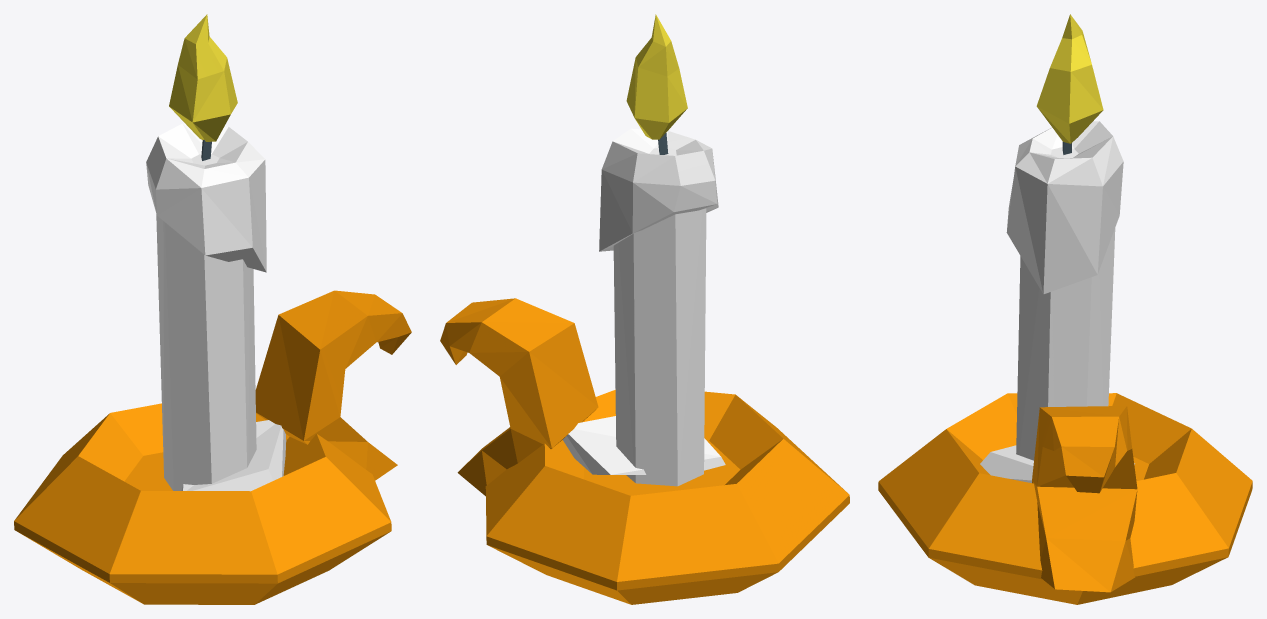
The model's file is candle.glb.
The picture shows the model from 3 angles, left to right: view 1: azimuth 30°, elevation 25°; view 2: azimuth 150°, elevation 25°; view 3: azimuth 270°, elevation 25°; orthographic projection.
Visible parts, largest first — view 1: Candle; view 2: Candle; view 3: Candle.
Boxes of the visible parts, bbox=[...] form: Candle: bbox=[14, 14, 411, 604]; Candle: bbox=[440, 14, 849, 604]; Candle: bbox=[878, 14, 1252, 604].
Bounding box in the file's own units: 0.2983 × 0.4318 × 0.2697.
